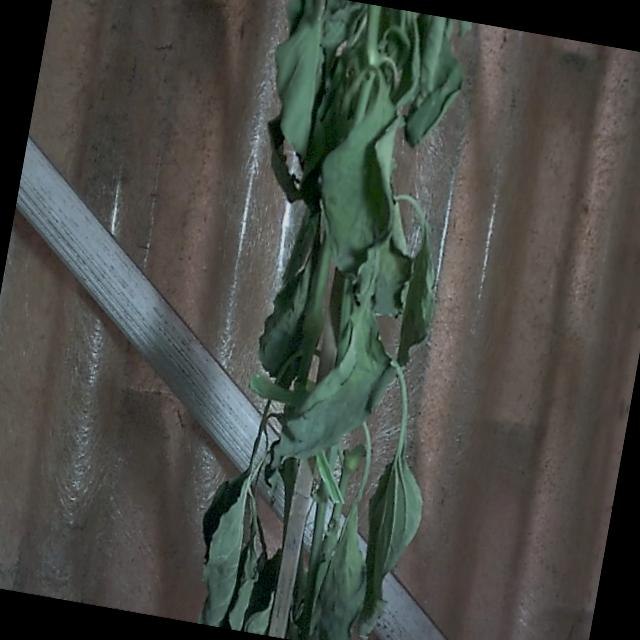Leaf: (296, 83, 416, 314), (346, 456, 431, 637), (255, 0, 335, 163), (182, 466, 256, 629)
